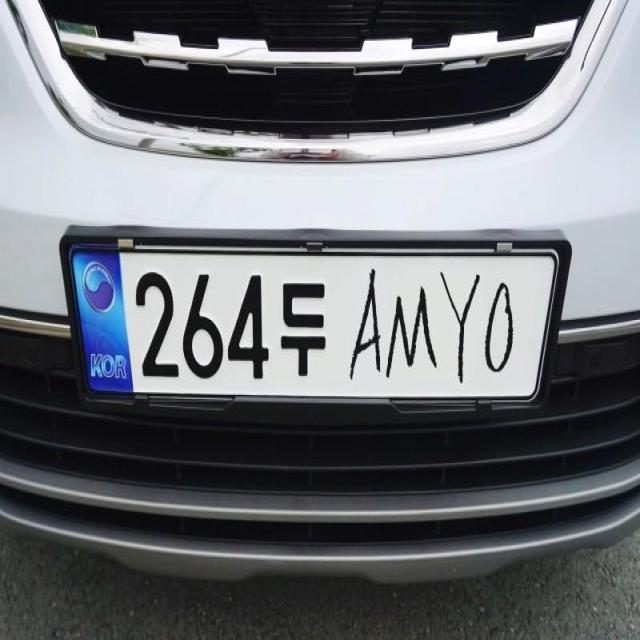illegal_plate: (66, 224, 554, 426)
